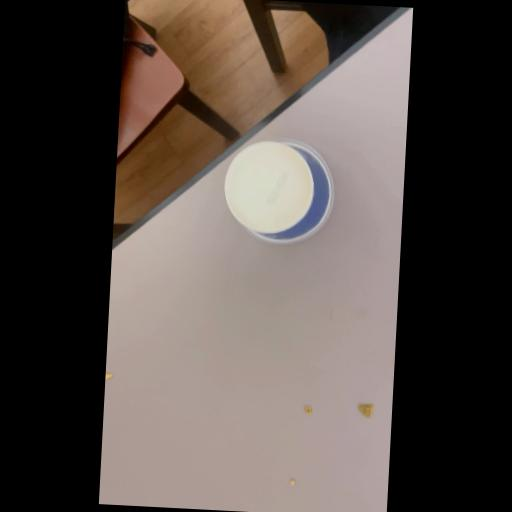lp_paper_cup: (216, 131, 338, 247)
